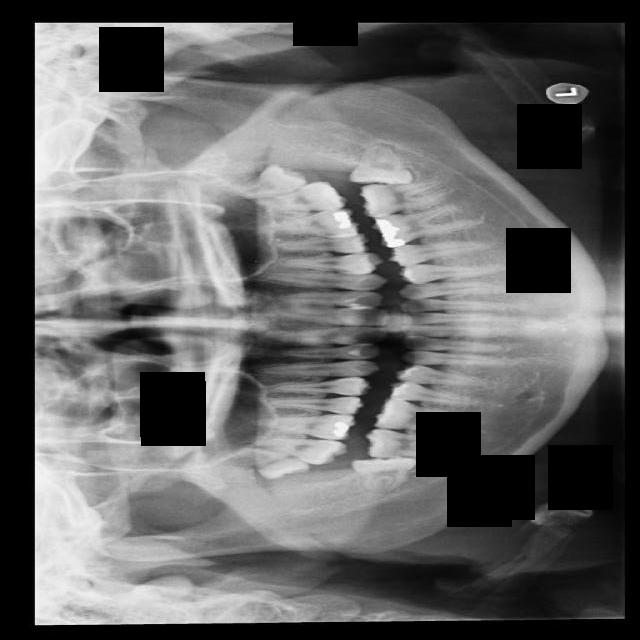3M ESPE Implant: (229, 435, 313, 492)
52: (369, 203, 423, 252), (316, 204, 362, 244), (314, 411, 357, 440), (336, 288, 386, 310), (334, 341, 382, 360)
BioHorizons Implant: (254, 180, 348, 210)
BioLife Implant: (226, 154, 310, 205)
Biomet 3i Implant: (348, 144, 413, 184)
Blue Sky Bio Implant: (357, 176, 451, 217)
Caries: (243, 432, 347, 466)
Implant: (365, 427, 459, 461)
Keystone Dental Implant: (350, 455, 420, 493)
